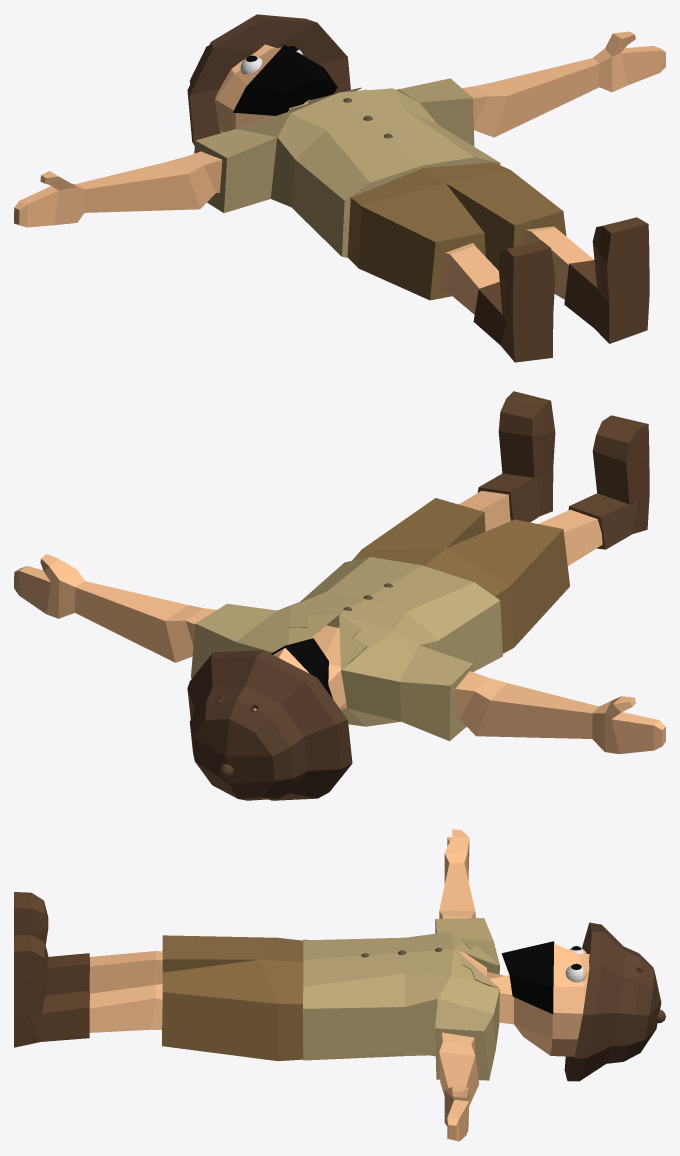
File: Morgan.fbx
3 renders of one model, top to bottom at view 1: azimuth 30°, elevation 25°; view 2: azimuth 150°, elevation 25°; view 3: azimuth 270°, elevation 25°, orthographic. The views are drawn at different scales.
Visible parts, largest first — view 1: Character; view 2: Character; view 3: Character.
Part boxes in pixels (bbox=[...]): Character: bbox=[14, 14, 665, 362]; Character: bbox=[14, 391, 665, 800]; Character: bbox=[14, 829, 665, 1141].
Bounding box in the file's own units: 724 × 179 × 693.
